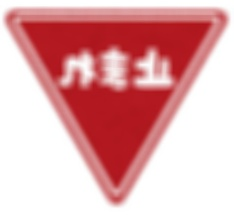Regulatory_sign_triangle: (1, 4, 227, 206)
